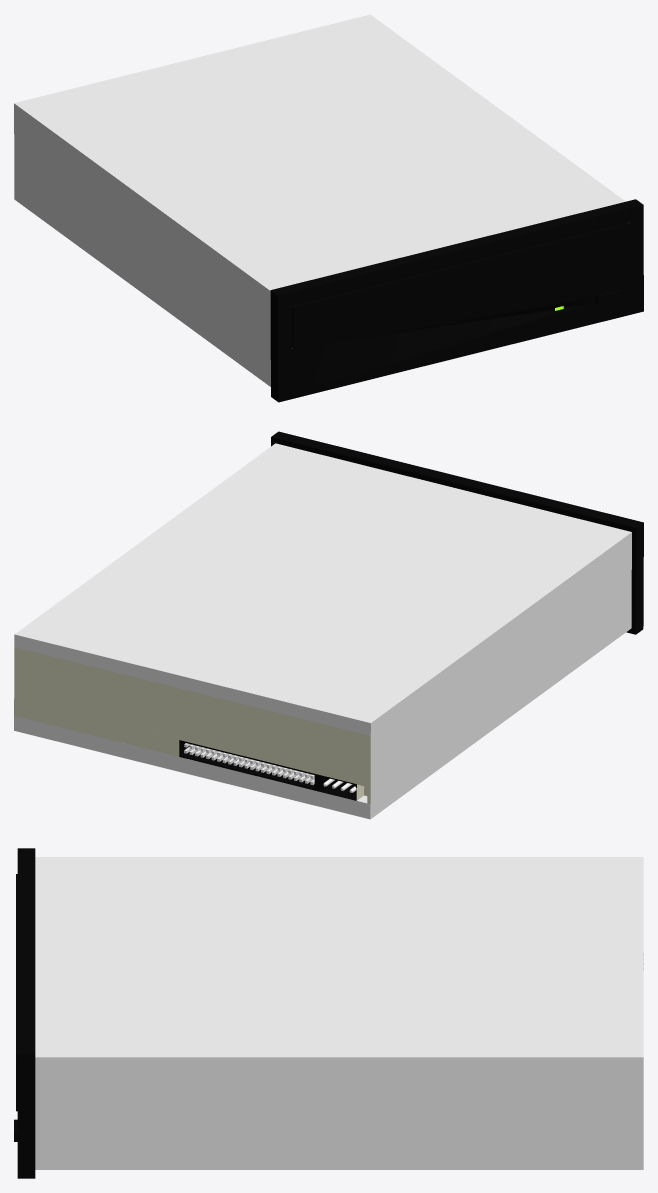
The model's file is dev-optical-drive_lod1.glb.
3 views of the same model, one above another, from view 1: azimuth 30°, elevation 25°; view 2: azimuth 150°, elevation 25°; view 3: azimuth 270°, elevation 25° (orthographic). The views are drawn at different scales.
Parts seen in each view (by area): view 1: body; view 2: body; view 3: body.
Boxes of the visible parts, <box> form: body: <box>14,14,643,402</box>; body: <box>14,431,643,819</box>; body: <box>14,848,643,1178</box>.
Bounding box in the file's own units: 0.1329 × 0.0377 × 0.17.
